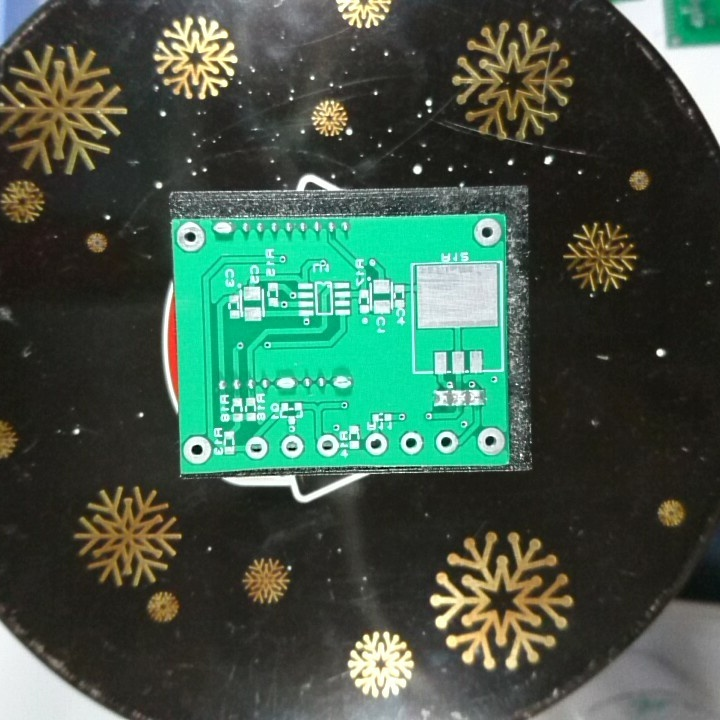F: (174, 220, 207, 255), (475, 425, 508, 458), (182, 434, 215, 466), (471, 218, 503, 249), (242, 435, 271, 462), (279, 433, 307, 460), (432, 428, 460, 455), (363, 431, 390, 458), (398, 429, 425, 456), (314, 431, 339, 458)
P: (273, 373, 299, 395), (209, 219, 236, 240), (329, 372, 354, 392)
